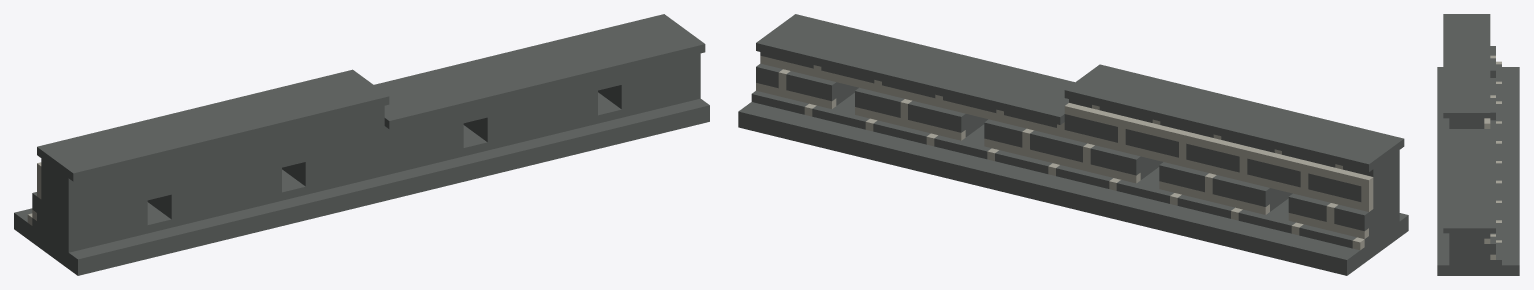
3 renders of one model, left to right at view 1: azimuth 30°, elevation 25°; view 2: azimuth 150°, elevation 25°; view 3: azimuth 270°, elevation 25°, orthographic. The views are drawn at different scales.
Parts seen in each view (by area): view 1: 挡墙转角高差与端头族; view 2: 挡墙转角高差与端头族; view 3: 挡墙转角高差与端头族.
Part boxes in pixels (x1,y1,x2,y2): 挡墙转角高差与端头族: (14, 14, 709, 275); 挡墙转角高差与端头族: (738, 14, 1408, 275); 挡墙转角高差与端头族: (1437, 14, 1519, 275).
Size of the model in its own units: 16 by 2.4 by 2.8.
Materials: 2 (2 with a texture image).
